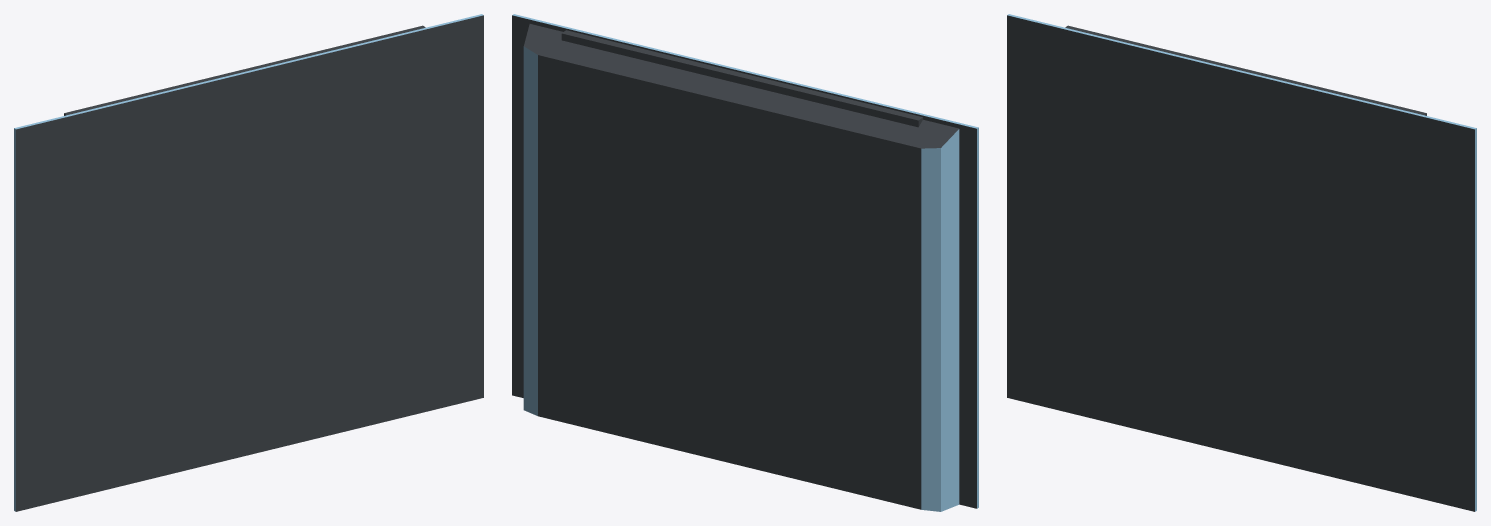
Rendered from door_mesh_2.obj.
3 renders of one model, left to right at view 1: azimuth 30°, elevation 25°; view 2: azimuth 150°, elevation 25°; view 3: azimuth 330°, elevation 25°, orthographic.
Visible parts, largest first — view 1: door_mesh_mesh23.001; view 2: door_mesh_mesh23.001; view 3: door_mesh_mesh23.001.
Boxes of the visible parts, x1,y1,x2,y2 form: door_mesh_mesh23.001: (14,14,483,511); door_mesh_mesh23.001: (512,14,978,511); door_mesh_mesh23.001: (1007,14,1476,511).
Size of the model in its own units: 0.594 by 0.464 by 0.037.
